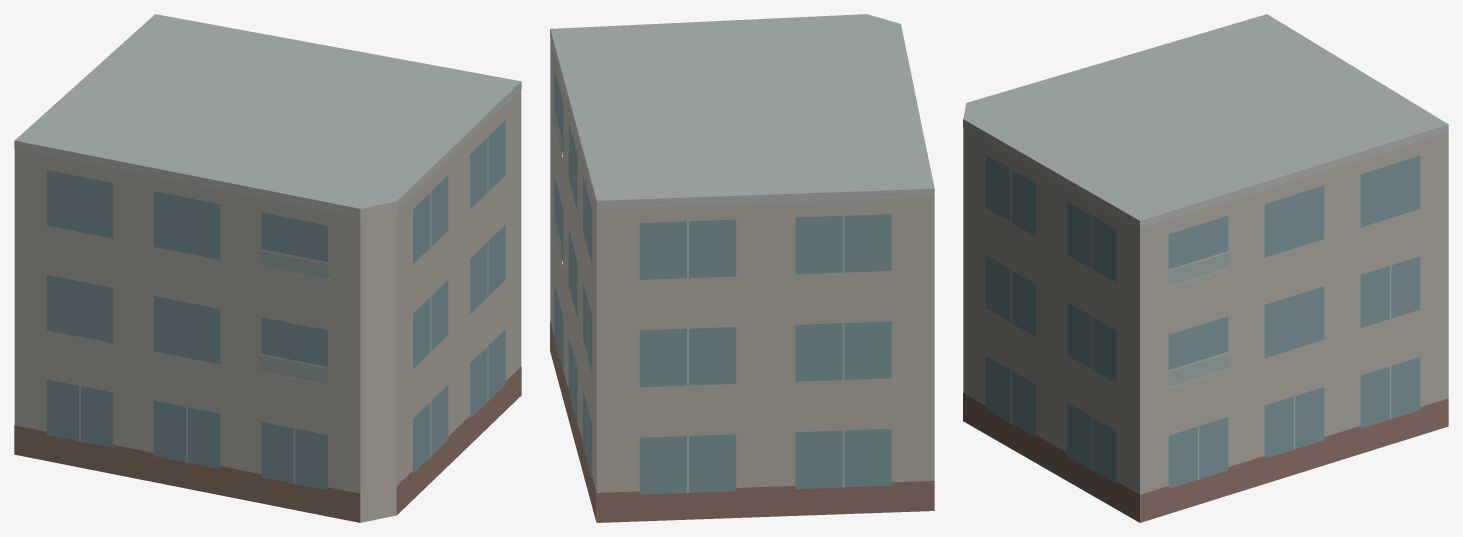
File: survey-upis-32497853.glb
3 views of the same model, side by side, from view 1: azimuth 30°, elevation 25°; view 2: azimuth 150°, elevation 25°; view 3: azimuth 270°, elevation 25° (orthographic). The views are drawn at different scales.
Visible parts, largest first — view 1: survey-upis-32497853.tmp; view 2: survey-upis-32497853.tmp; view 3: survey-upis-32497853.tmp.
Part boxes in pixels (x1=…): survey-upis-32497853.tmp: x1=14, y1=14, x2=521, y2=522; survey-upis-32497853.tmp: x1=550, y1=14, x2=934, y2=522; survey-upis-32497853.tmp: x1=963, y1=14, x2=1448, y2=522.
Size of the model in its own units: 13.45 by 9.15 by 13.34.
